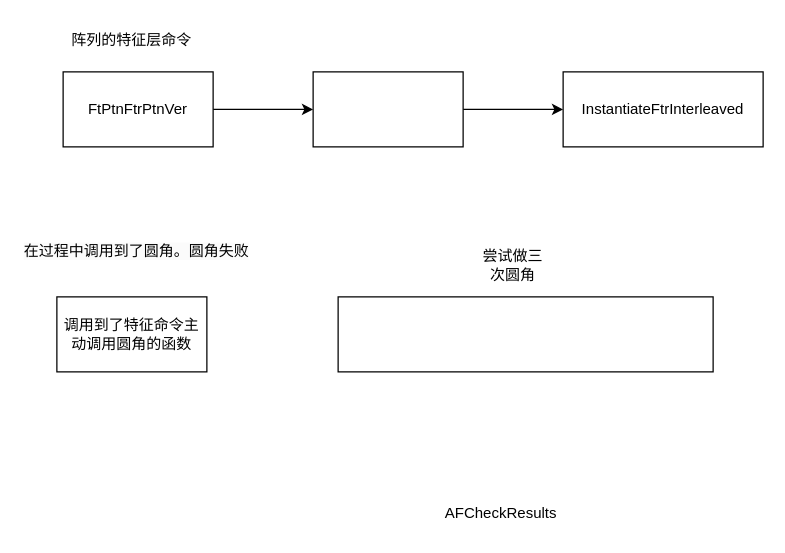
Image size: 785x553. Some labels were removed from this diagram. The box of each missing label's shape, as (x1, y1, x2, y2) in pixels:
FilletChamferVarInfo::performEdgeFillet: (337, 296, 713, 372)
FtGrpPattern: (312, 71, 463, 147)
